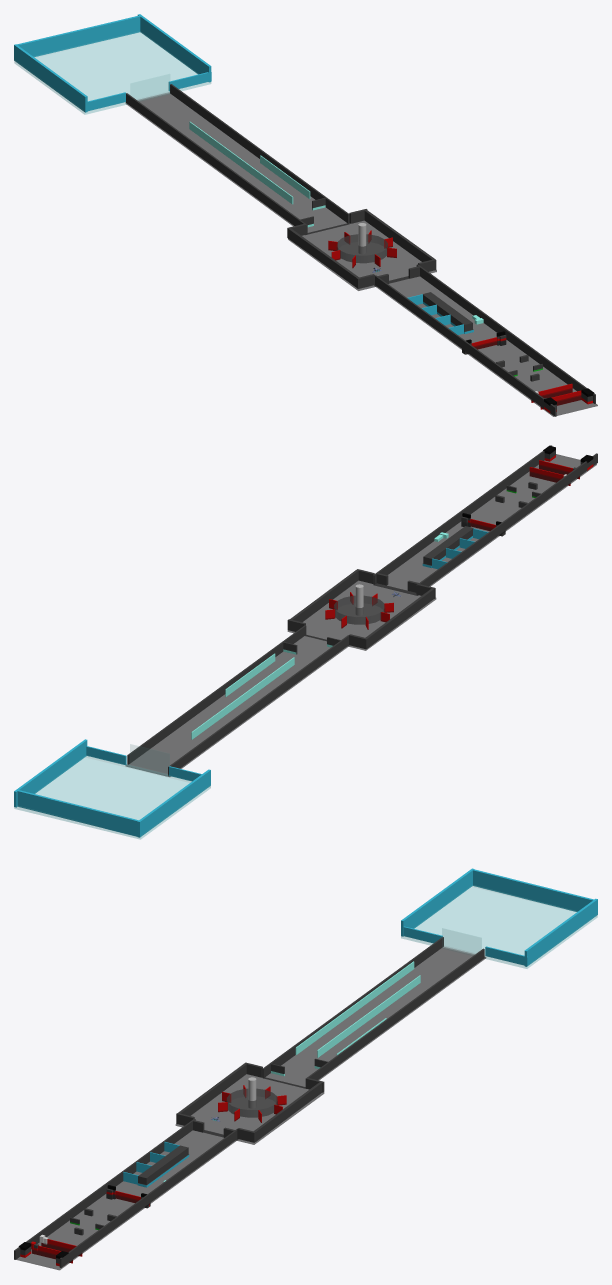
The picture shows the model from 3 angles, top to bottom: view 1: azimuth 30°, elevation 25°; view 2: azimuth 150°, elevation 25°; view 3: azimuth 330°, elevation 25°; orthographic projection.
Visible parts, largest first — view 1: Cube, Cube_5_6, Cube_9_2, Cube_2_9, Cube_3, Cube_5_8, Cube_4_8, Cube_3_9, Cube_6_6, Cube_2, Cube_1, Tube (+4 smaller); view 2: Cube, Cube_5_6, Cube_9_2, Cube_2_9, Cube_3, Cube_5_8, Cube_4_8, Cube_3_9, Cube_6_6, Cube_2, Cube_1, Tube (+4 smaller); view 3: Cube, Cube_5_6, Cube_9_2, Cube_2_9, Cube_3_9, Cube_3, Cube_6_6, Cube_4_8, Cube_1, Cube_2, Tube, Cube_5_8 (+5 smaller).
Boxes of the visible parts, left/top/right/bottom form: Cube: left=14, top=31, right=210, bottom=114; Cube_5_6: left=125, top=92, right=348, bottom=234; Cube_9_2: left=374, top=276, right=597, bottom=416; Cube_2_9: left=288, top=220, right=436, bottom=290; Cube_3: left=17, top=15, right=141, bottom=57; Cube_5_8: left=125, top=93, right=307, bottom=234; Cube_4_8: left=375, top=275, right=556, bottom=416; Cube_3_9: left=416, top=264, right=595, bottom=403; Cube_6_6: left=170, top=84, right=349, bottom=223; Cube_2: left=14, top=44, right=87, bottom=112; Cube_1: left=137, top=14, right=211, bottom=82; Tube: left=336, top=234, right=387, bottom=263; Cube: left=14, top=755, right=210, bottom=839; Cube_5_6: left=126, top=635, right=348, bottom=776; Cube_9_2: left=373, top=454, right=596, bottom=595; Cube_2_9: left=287, top=580, right=436, bottom=650; Cube_3: left=16, top=790, right=138, bottom=836; Cube_5_8: left=168, top=635, right=348, bottom=776; Cube_4_8: left=416, top=453, right=597, bottom=594; Cube_3_9: left=373, top=445, right=551, bottom=584; Cube_6_6: left=127, top=625, right=306, bottom=764; Cube_2: left=137, top=769, right=210, bottom=837; Cube_1: left=14, top=739, right=87, bottom=807; Tube: left=334, top=595, right=385, bottom=624; Cube: left=401, top=885, right=597, bottom=968; Cube_5_6: left=264, top=947, right=486, bottom=1088; Cube_9_2: left=16, top=1130, right=238, bottom=1270; Cube_2_9: left=175, top=1074, right=324, bottom=1144; Cube_3_9: left=59, top=1128, right=237, bottom=1267; Cube_3: left=473, top=869, right=595, bottom=911; Cube_6_6: left=305, top=948, right=484, bottom=1087; Cube_4_8: left=14, top=1118, right=195, bottom=1259; Cube_1: left=524, top=898, right=597, bottom=966; Cube_2: left=401, top=868, right=473, bottom=936; Tube: left=226, top=1088, right=277, bottom=1117; Cube_5_8: left=262, top=937, right=443, bottom=1078.
Size of the model in its own units: 2912 by 741 by 19890.
13 materials, 1 textured.
